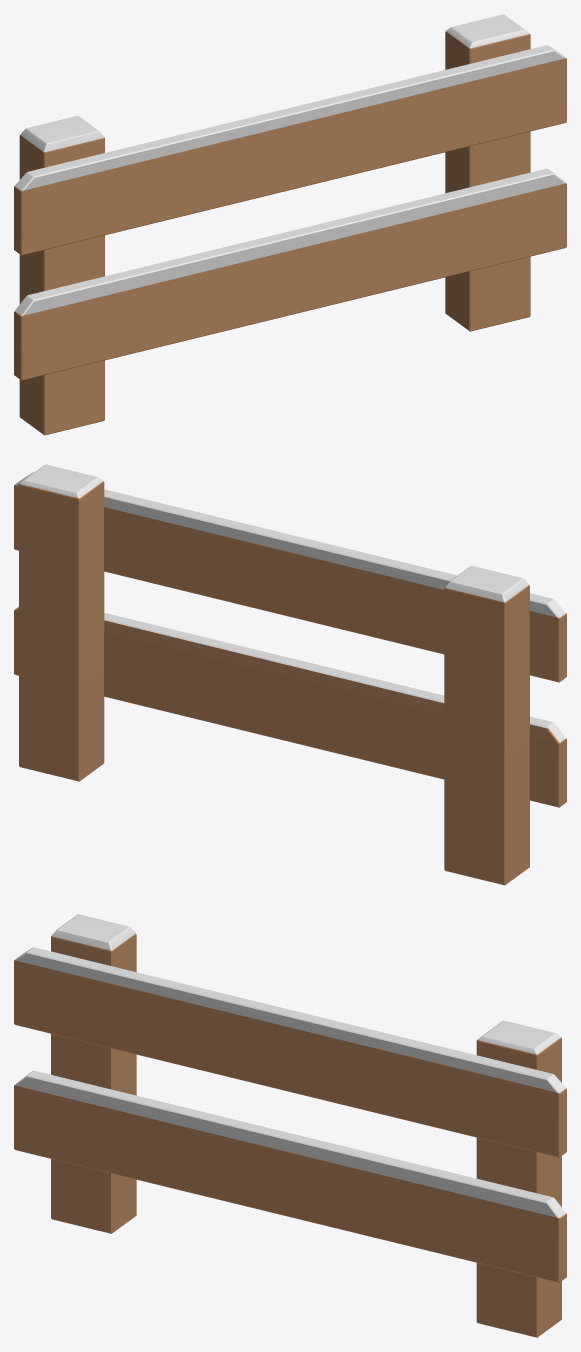
The model's file is fenceV1.fbx.
The picture shows the model from 3 angles, top to bottom: view 1: azimuth 30°, elevation 25°; view 2: azimuth 150°, elevation 25°; view 3: azimuth 330°, elevation 25°; orthographic projection.
Visible parts, largest first — view 1: fences1_pCube54; view 2: fences1_pCube54; view 3: fences1_pCube54.
Part boxes in pixels (bbox=[...]): fences1_pCube54: bbox=[14, 14, 566, 435]; fences1_pCube54: bbox=[14, 464, 566, 885]; fences1_pCube54: bbox=[14, 914, 566, 1337].
Bounding box in the file's own units: 6.56 × 3.33 × 0.6704.
